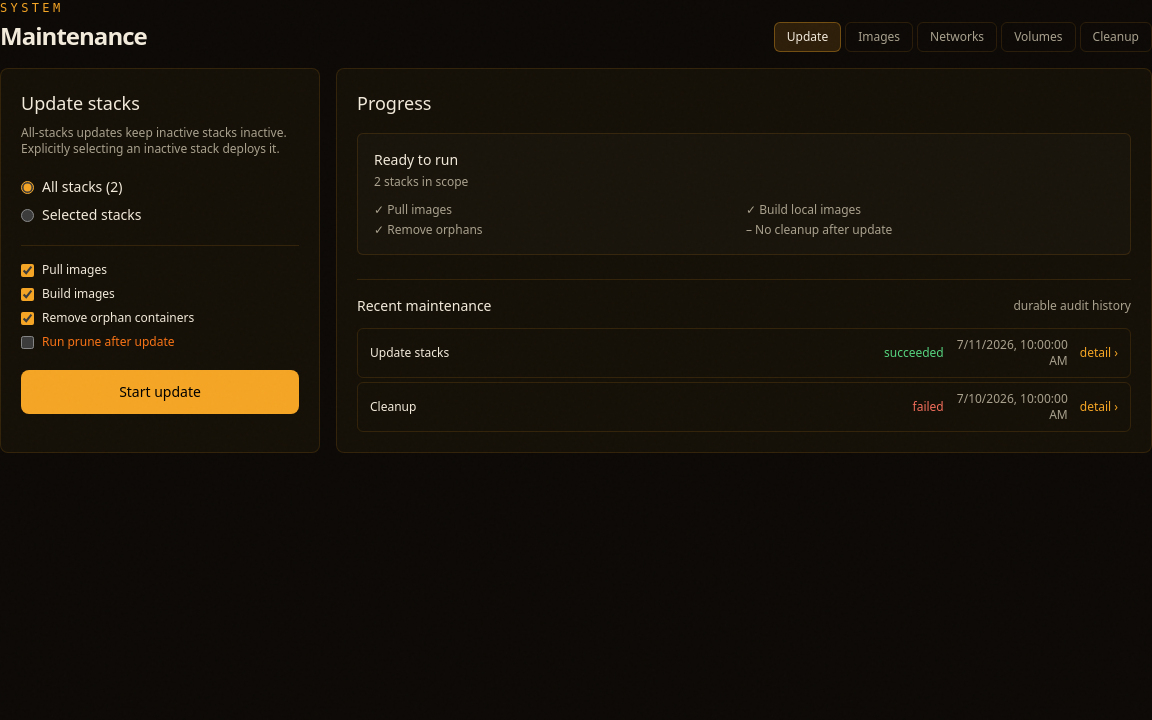
Scenario: MaintenancePage › starts selected-stack maintenance and renders step progress
What coordinates should you click on to do the following:
click the radio button labelled "Selected stacks"
I would click on:
 (28, 215)
Its box is [21,208,34,222].
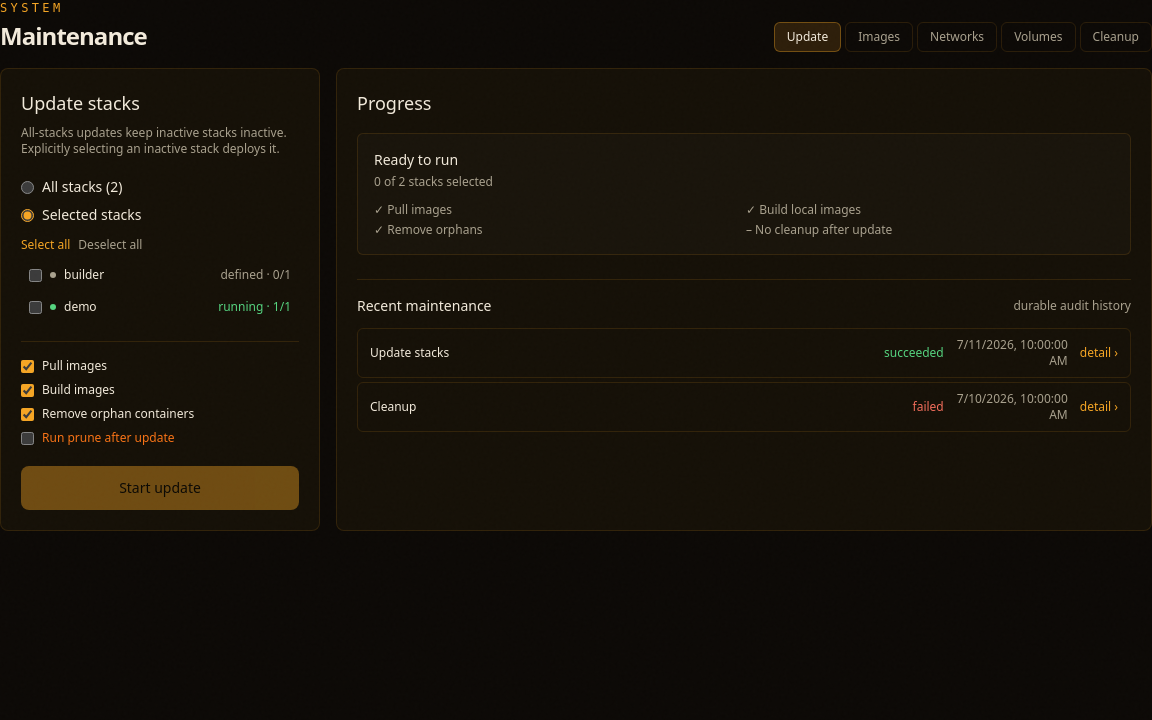
What coordinates should you click on to do the following:
click the checkbox labelled "demo running · 1/1"
I would click on:
 (36, 307)
Its box is [29,300,42,314].
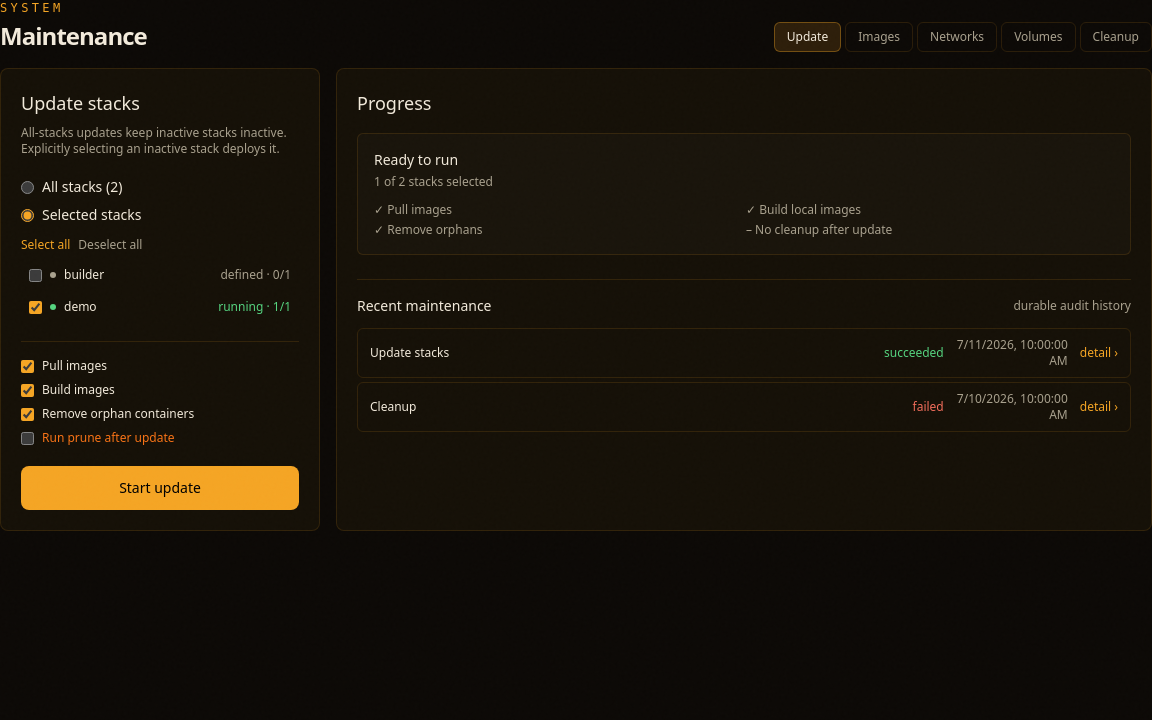
What coordinates should you click on to do the following:
click the button with test id "maintenance-start"
I would click on:
 (160, 488)
Its box is [21,466,299,510].
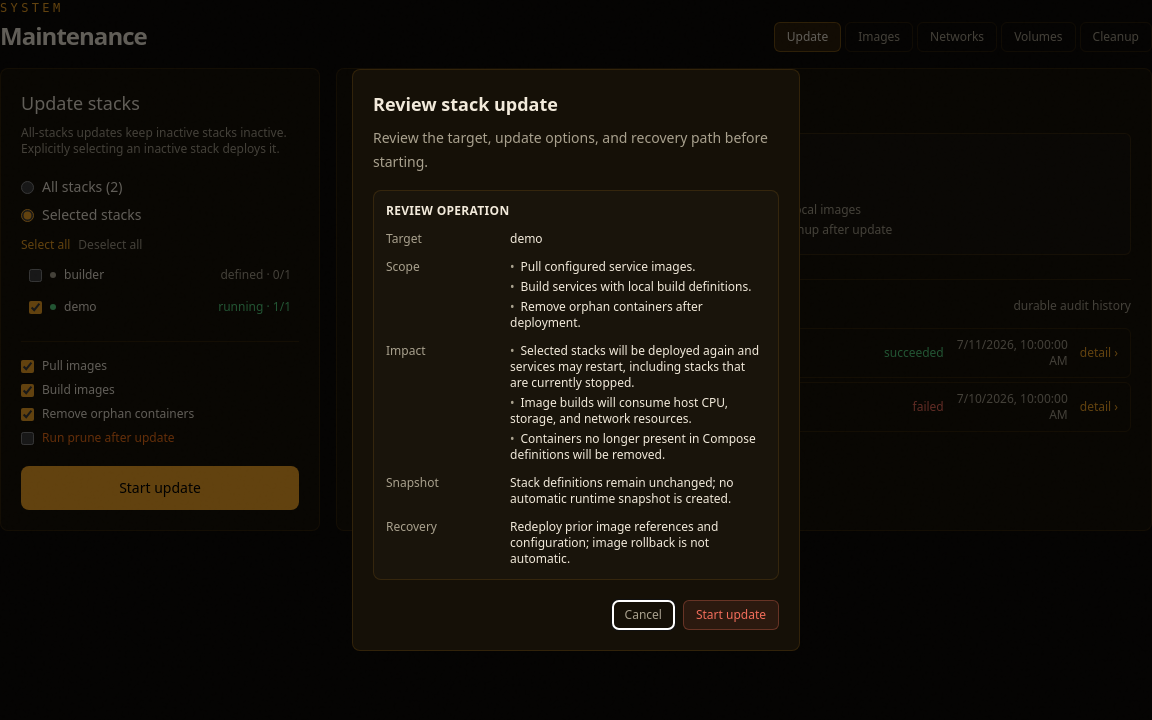
What coordinates should you click on to do the following:
click the button "Start update"
I would click on:
 (731, 615)
Its box is [683,600,779,630].
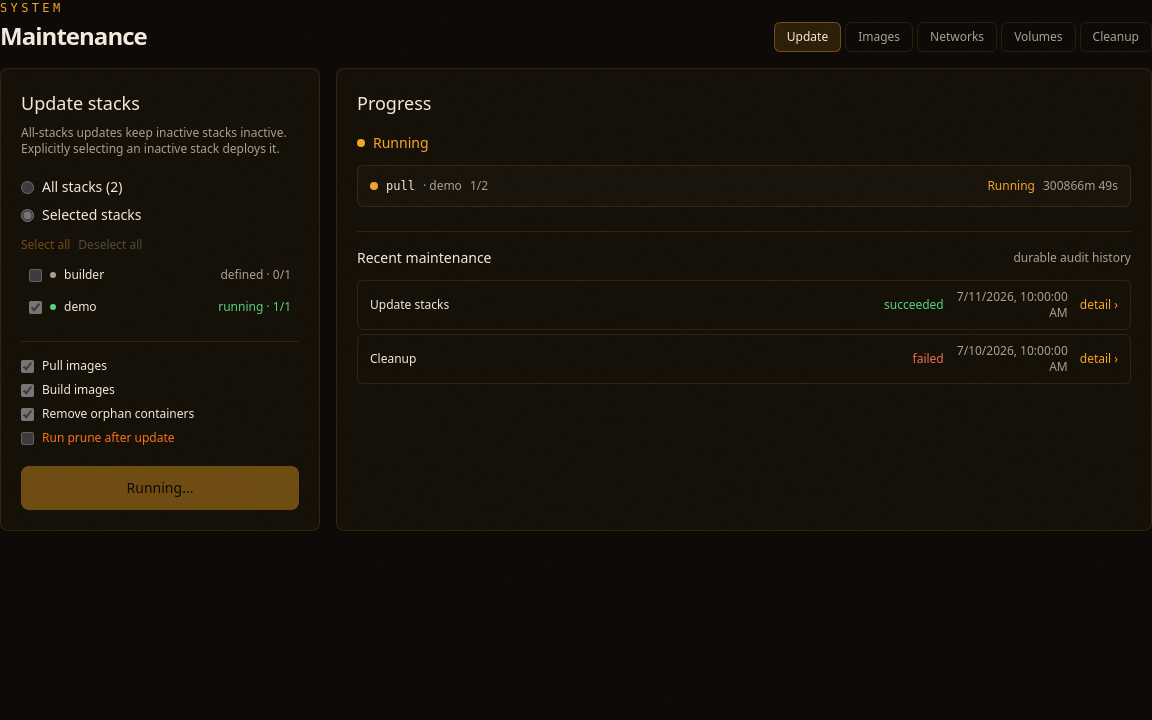
Check: the text "pull" is shown, box [386,178,415,194]
Check: the text "Running" is shown 2 times, box [373,133,428,153]; [987,178,1035,194]
Check: the text "1/2" is shown, box [470,178,488,194]
